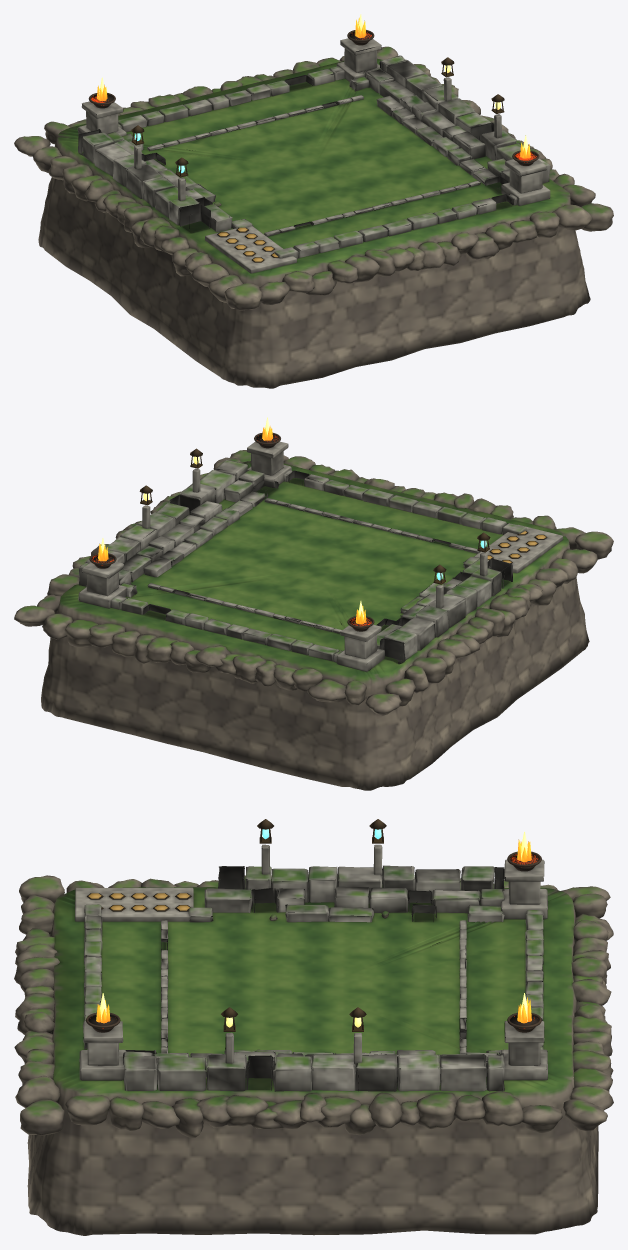
Rendered from SM_ArenaBase.glb.
The picture shows the model from 3 angles, top to bottom: view 1: azimuth 30°, elevation 25°; view 2: azimuth 150°, elevation 25°; view 3: azimuth 270°, elevation 25°; orthographic projection. The views are drawn at different scales.
Visible parts, largest first — view 1: ArenaBase; view 2: ArenaBase; view 3: ArenaBase.
Part boxes in pixels (<box>): ArenaBase: <box>14,14,613,388</box>; ArenaBase: <box>14,417,613,790</box>; ArenaBase: <box>14,819,613,1235</box>.
Size of the model in its own units: 14.22 by 5.83 by 14.95.
Materials: 1 (1 with a texture image).
